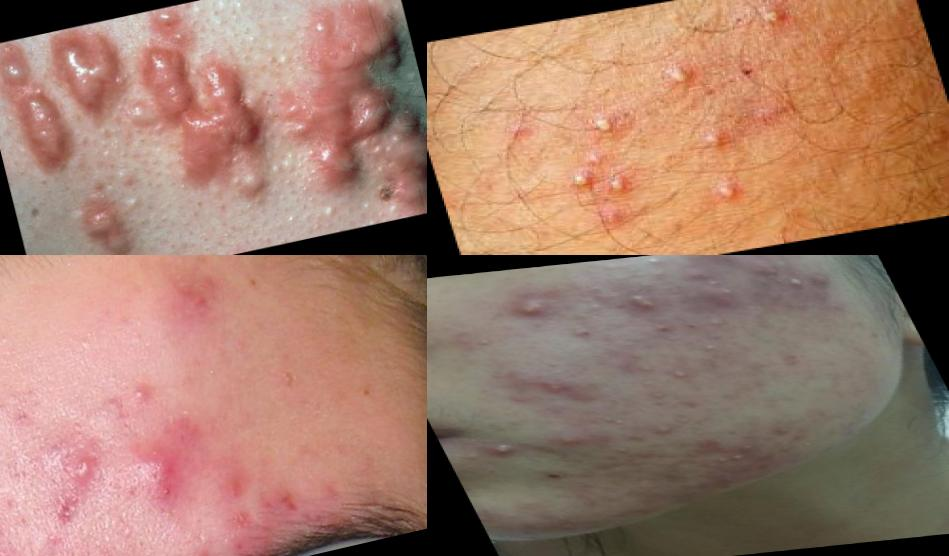cystic: (679, 267, 757, 310), (136, 444, 183, 499)
folliculitis: (648, 49, 711, 99), (701, 170, 753, 215), (580, 106, 635, 143), (690, 117, 739, 157), (743, 1, 793, 37), (597, 167, 644, 200), (555, 166, 601, 194)
keloid: (277, 1, 428, 230), (133, 25, 278, 220), (1, 38, 78, 184), (41, 23, 136, 126), (72, 185, 139, 256), (143, 7, 189, 44)
papular: (154, 256, 235, 338), (592, 197, 645, 252), (629, 417, 698, 441), (543, 429, 601, 452), (758, 423, 808, 445), (642, 321, 680, 338)
purulent: (47, 443, 105, 499), (701, 443, 764, 470), (615, 285, 667, 316), (654, 364, 710, 388), (687, 334, 733, 362), (478, 437, 523, 464), (515, 298, 560, 322), (769, 275, 812, 296)
sebo-crystan-conglo: (106, 372, 174, 425), (522, 374, 588, 403), (45, 495, 90, 532)
whitehead: (462, 332, 507, 357), (590, 408, 636, 432), (574, 294, 619, 317), (634, 256, 680, 272), (633, 388, 675, 403), (455, 450, 493, 466), (493, 508, 523, 526)
